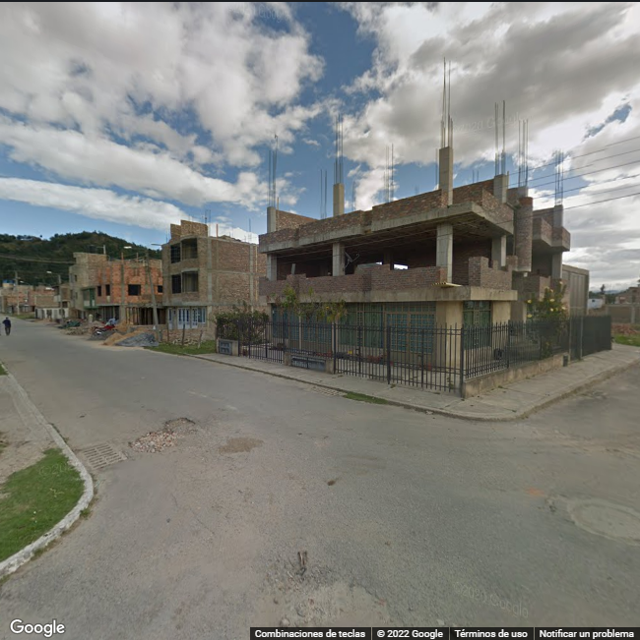D00: (159, 486, 220, 537)
D10: (335, 564, 409, 629)
D40: (137, 425, 179, 454)
